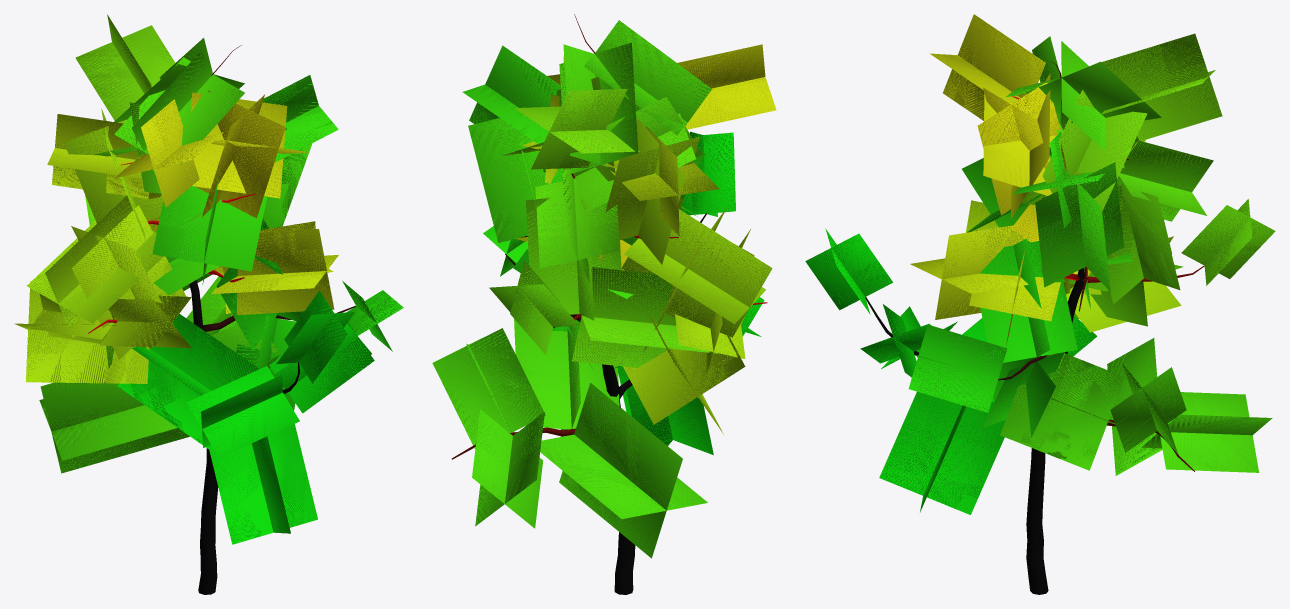
File: Type_1_Tree_1.fbx
3 renders of one model, left to right at view 1: azimuth 30°, elevation 25°; view 2: azimuth 150°, elevation 25°; view 3: azimuth 270°, elevation 25°, orthographic. The views are drawn at different scales.
Visible parts, largest first — view 1: Leaf, Trunk; view 2: Leaf, Trunk; view 3: Leaf, Trunk.
Boxes of the visible parts, x1,y1,x2,y2 form: Leaf: (14, 14, 403, 544); Trunk: (88, 45, 355, 594); Leaf: (432, 20, 776, 558); Trunk: (451, 14, 767, 594); Leaf: (805, 14, 1275, 514); Trunk: (865, 61, 1204, 594).
Size of the model in its own units: 1987 by 3321 by 2553.
